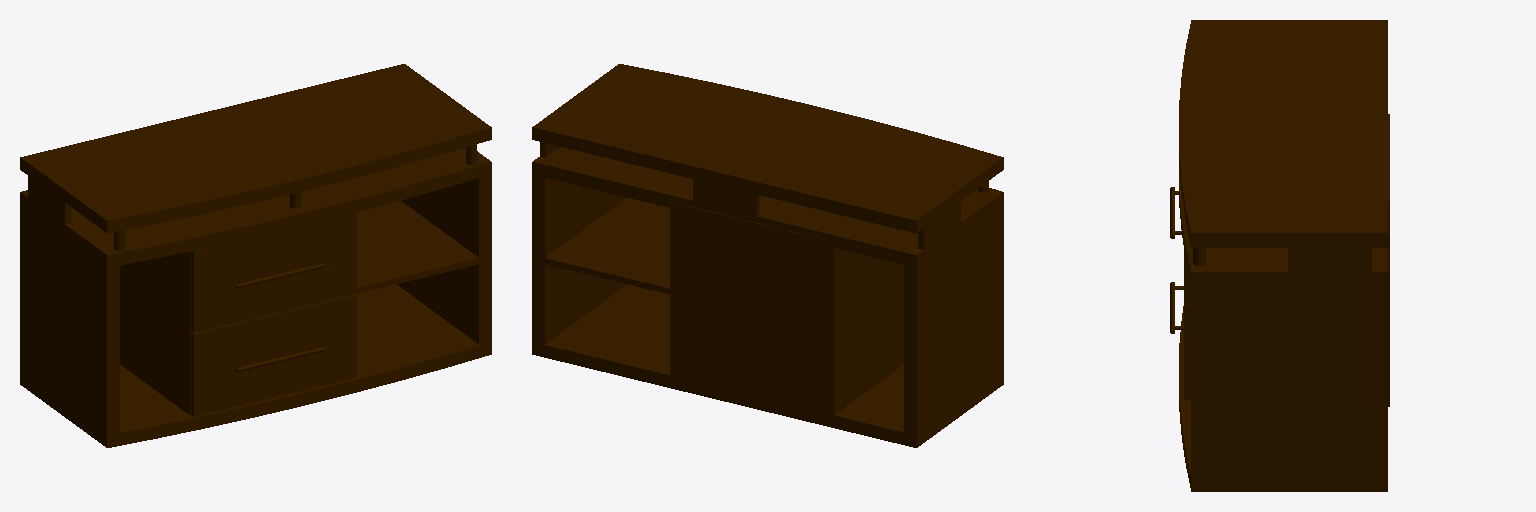
URDF robot description (tv_curbstone):
<robot
  name="tv_curbstone">
  <link
    name="tv_curbstone">
    <inertial>
      <origin
        xyz="-0.0096176 -0.24918 0.36027"
        rpy="0 0 0" />
      <mass
        value="907.29" />
      <inertia
        ixx="72.8870737906967"
        ixy="0.583244781287835"
        ixz="0.72076352451082"
        iyy="175.938812241716"
        iyz="-0.519412487076515"
        izz="143.877943469027" />
    </inertial>
    <visual>
      <origin
        xyz="0 0 0"
        rpy="0 0 0" />
      <geometry>
        <mesh
          filename="package://tv_curbstone/meshes/tv_curbstone.dae" />
      </geometry>
      <material
        name="">
        <color
          rgba="0.24706 0.14118 0 1" />
      </material>
    </visual>
    <collision>
      <origin
        xyz="0 0 0"
        rpy="0 0 0" />
      <geometry>
        <mesh
          filename="package://tv_curbstone/meshes/tv_curbstone.dae" />
      </geometry>
    </collision>
  </link>
</robot>

--- Render facts (derived) ---
3 views of the same robot in one strip: view 1: azimuth 30°, elevation 25°; view 2: azimuth 150°, elevation 25°; view 3: azimuth 270°, elevation 25° (orthographic).
Robot: tv_curbstone — 1 links, 0 joints (none); root link tv_curbstone; default pose: all joints at 0.
Visible links, largest first — view 1: tv_curbstone; view 2: tv_curbstone; view 3: tv_curbstone.
Link boxes in pixels (bbox=[...]): tv_curbstone: bbox=[20, 64, 491, 447]; tv_curbstone: bbox=[532, 64, 1003, 447]; tv_curbstone: bbox=[1170, 20, 1389, 491].
Bounding box of the posed robot: 1.2 × 0.523 × 0.679 m (x, y, z).
Meshes: 1 distinct files referenced, 1 mesh visuals loaded (1 Collada DAE).